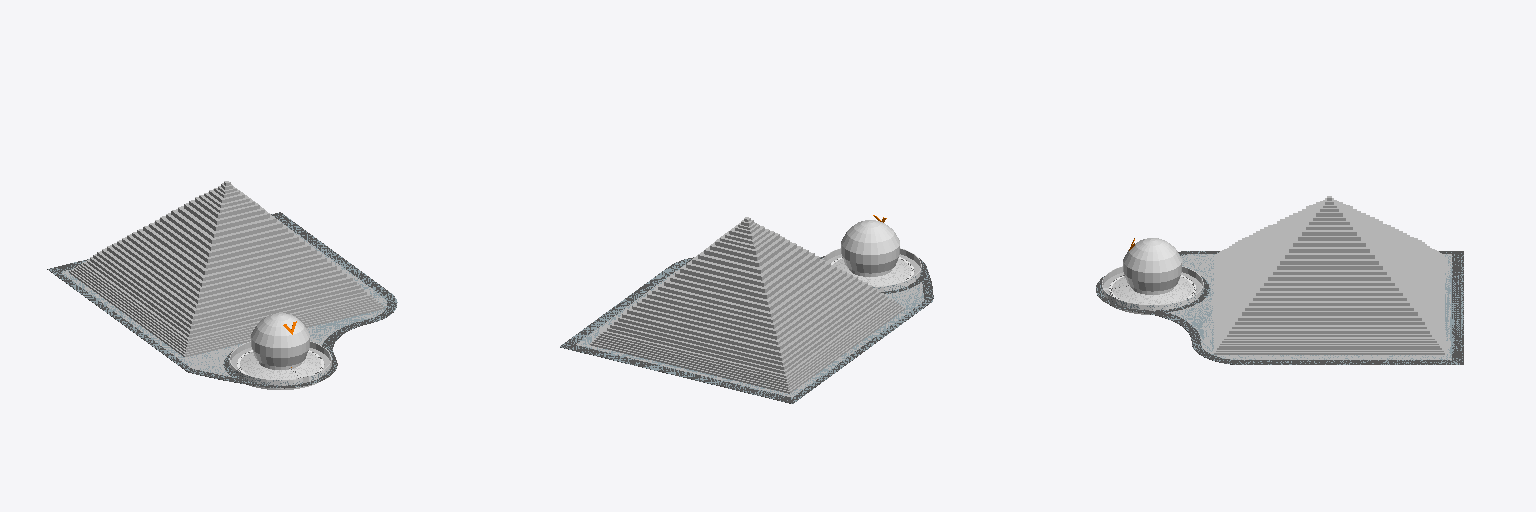
Rendered from FortalezaVectorTexturizada4.obj.
3 renders of one model, left to right at view 1: azimuth 30°, elevation 25°; view 2: azimuth 150°, elevation 25°; view 3: azimuth 270°, elevation 25°, orthographic.
Visible parts, largest first — view 1: ID834, ID511, ID1019, ID359, ID339, ID329, ID299, ID319, ID929, ID309, ID909, ID349 (+16 smaller); view 2: ID834, ID511, ID359, ID1019, ID1029, ID339, ID329, ID299, ID319, ID929, ID309, ID909 (+15 smaller); view 3: ID834, ID511, ID1019, ID359, ID329, ID299, ID349, ID339, ID929, ID319, ID909, ID919 (+16 smaller).
Part boxes in pixels (x1,y1,x2,y2): ID834: (155,188,298,262); ID511: (47,212,397,388); ID1019: (61,225,386,377); ID359: (251,313,309,369); ID339: (107,245,346,313); ID329: (102,248,352,319); ID299: (90,257,363,333); ID319: (97,251,356,324); ID929: (117,240,336,303); ID309: (93,254,360,328); ID909: (127,234,326,291); ID349: (112,243,341,308); ID834: (675,223,819,298); ID511: (560,256,933,403); ID359: (841,220,899,276); ID1019: (576,266,923,397); ID1029: (677,244,740,287); ID339: (627,281,867,350); ID329: (622,285,872,355); ID299: (610,293,884,369); ID319: (618,288,876,360); ID929: (637,276,857,339); ID309: (614,290,880,365); ID909: (647,270,846,328); ID834: (1277,202,1382,269); ID511: (1096,251,1463,364); ID1019: (1168,254,1451,359); ID359: (1123,238,1181,294); ID329: (1238,240,1421,320); ID299: (1229,246,1429,333); ID349: (1245,237,1413,310); ID339: (1242,238,1417,315); ID929: (1249,235,1409,305); ID319: (1235,242,1424,324); ID909: (1256,231,1402,295); ID919: (1253,233,1406,300).
Size of the model in its own units: 61.48 by 28.59 by 83.98.